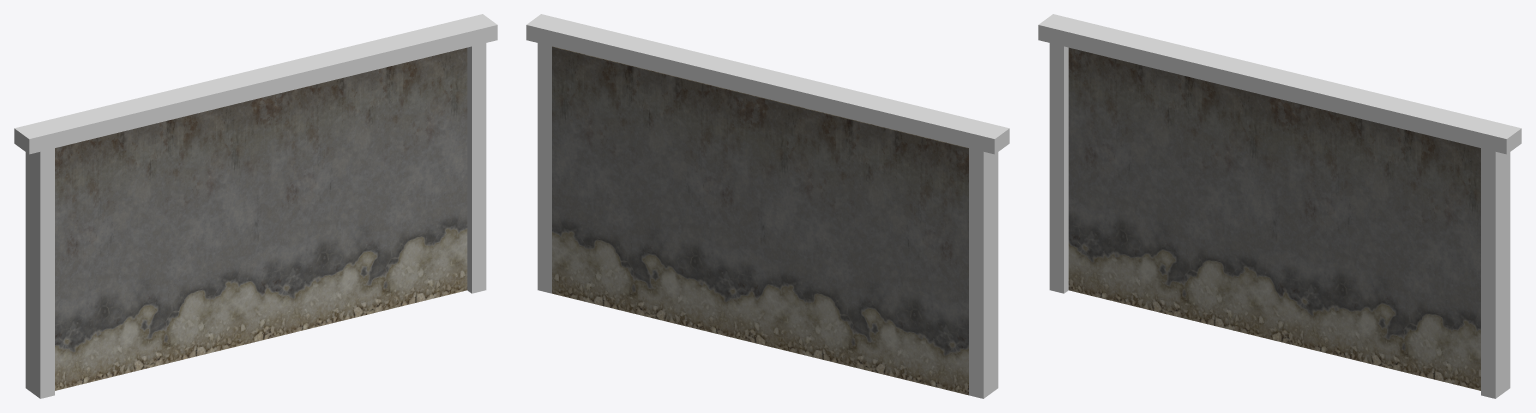
The model's file is Wall.fbx.
3 renders of one model, left to right at view 1: azimuth 30°, elevation 25°; view 2: azimuth 150°, elevation 25°; view 3: azimuth 330°, elevation 25°, orthographic.
Parts seen in each view (by area): view 1: Wall; view 2: Wall; view 3: Wall.
Boxes of the visible parts, x1,y1,x2,y2 form: Wall: [14, 14, 497, 398]; Wall: [526, 14, 1009, 398]; Wall: [1038, 14, 1521, 398].
Bounding box in the file's own units: 8.4 × 0.4619 × 4.5.
Materials: 3 (1 with a texture image).
